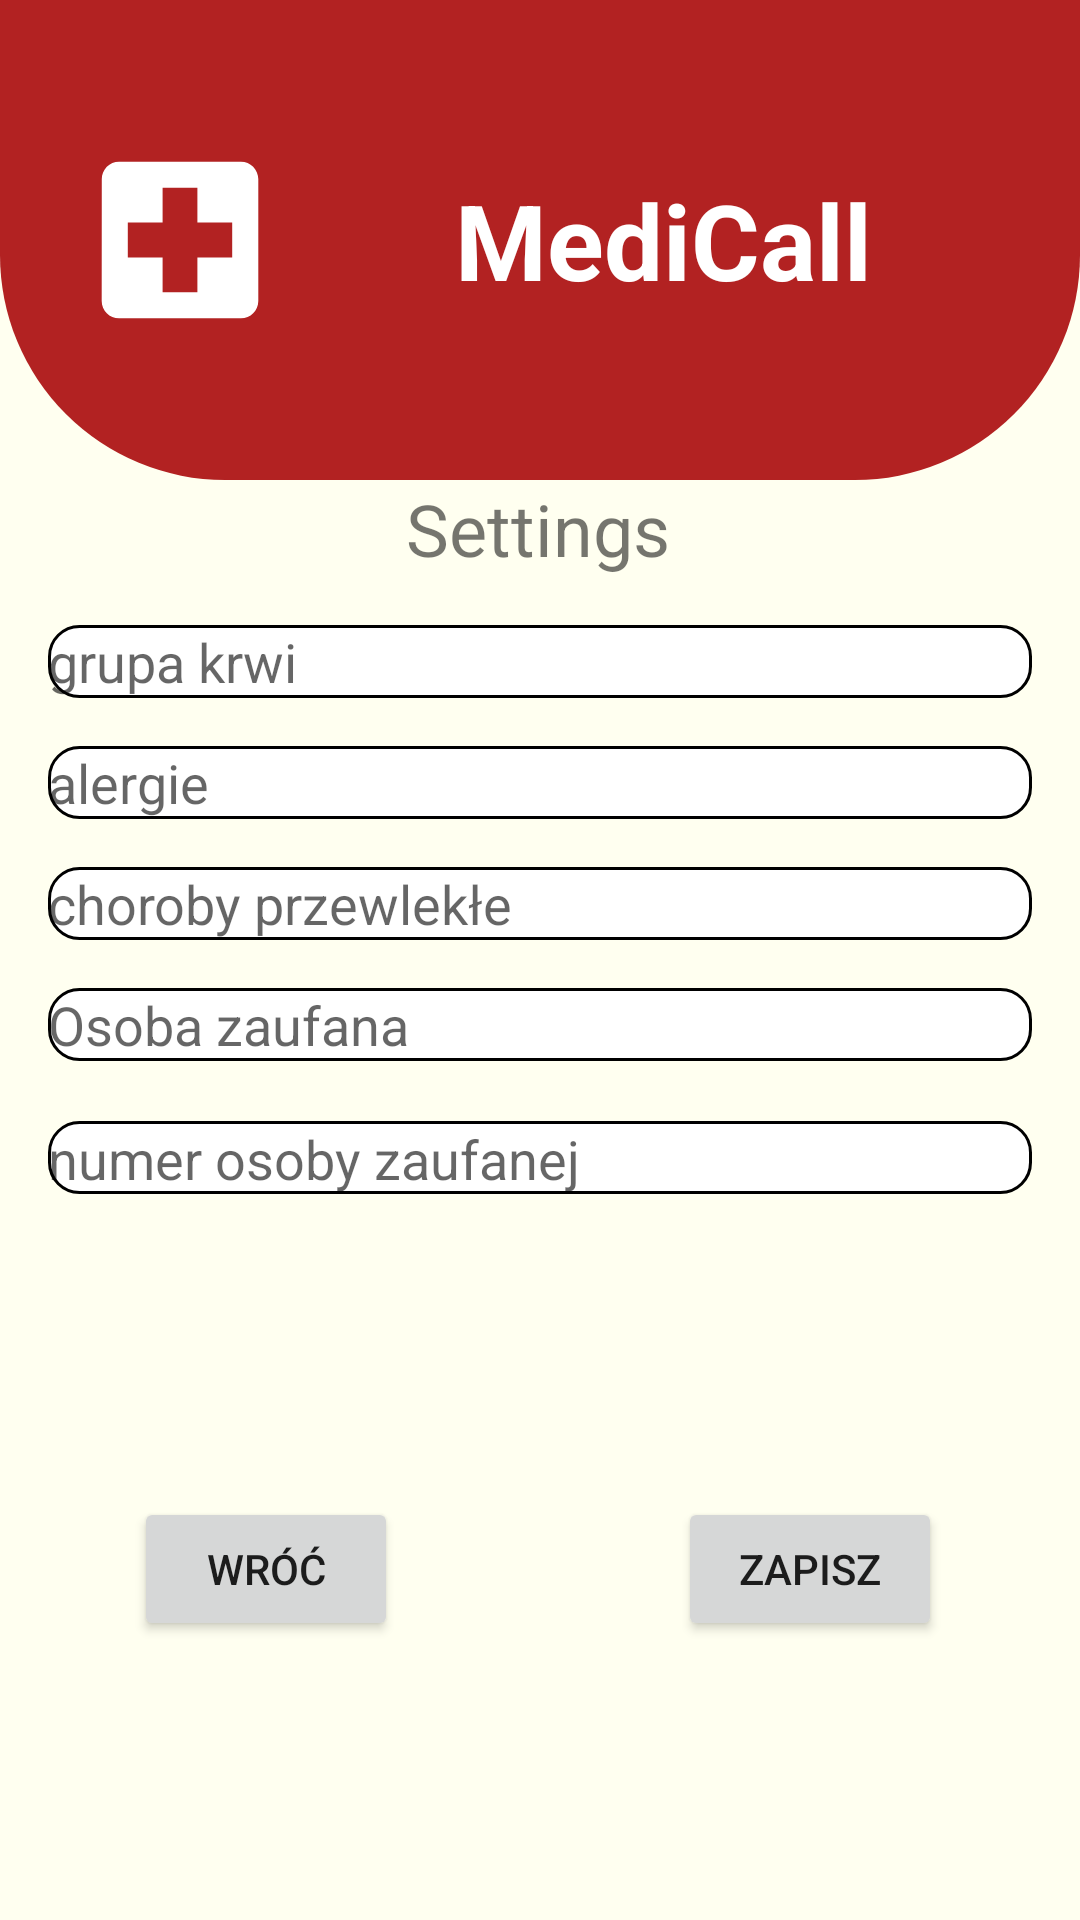

Locate icon controls on the screen. Image size 1080 × 1920, boxes as (x1, y1, x2, y2).
app: (101, 161, 259, 319)
